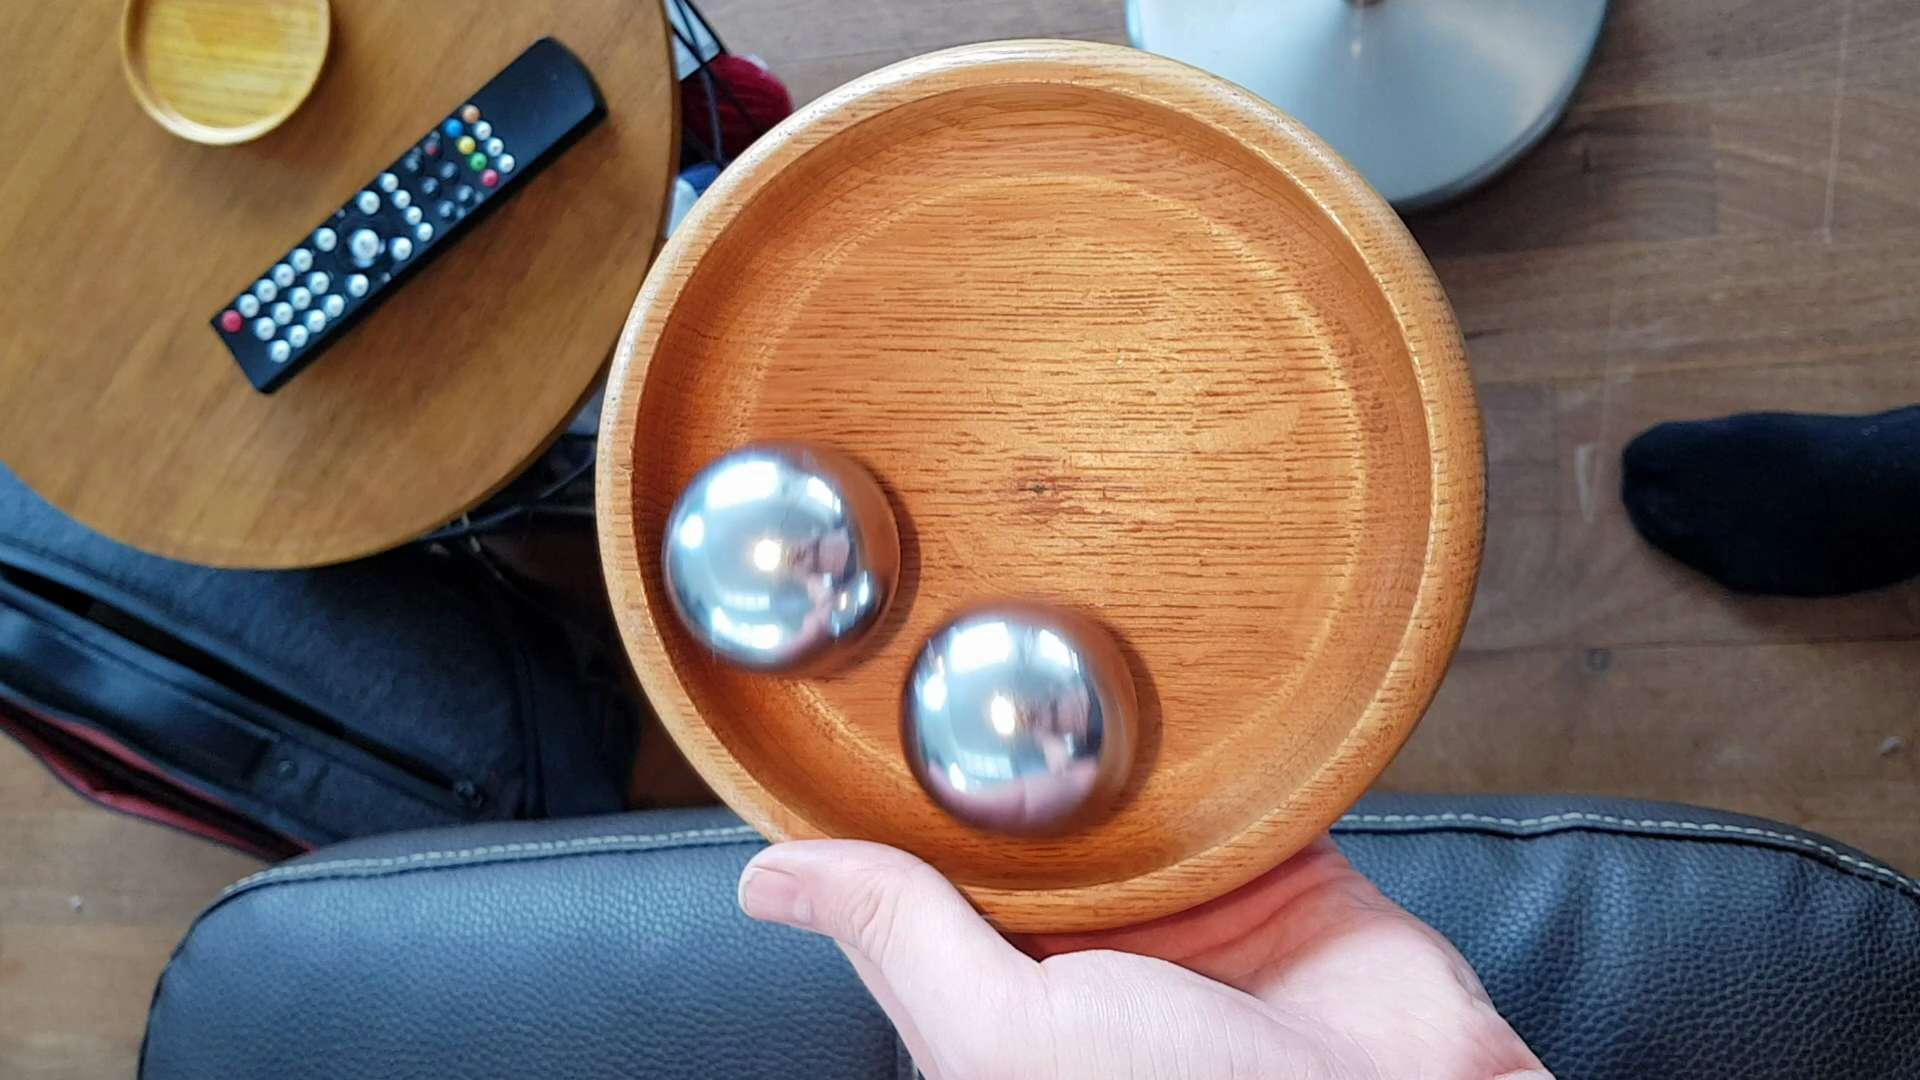sphere: (889, 588, 1166, 844), (650, 429, 907, 691)
